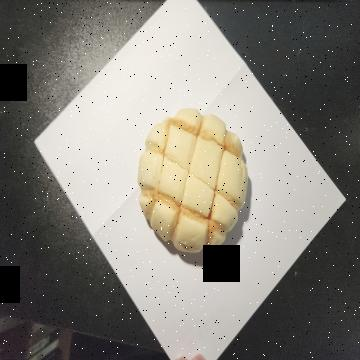melon_bread: (138, 106, 250, 256)
